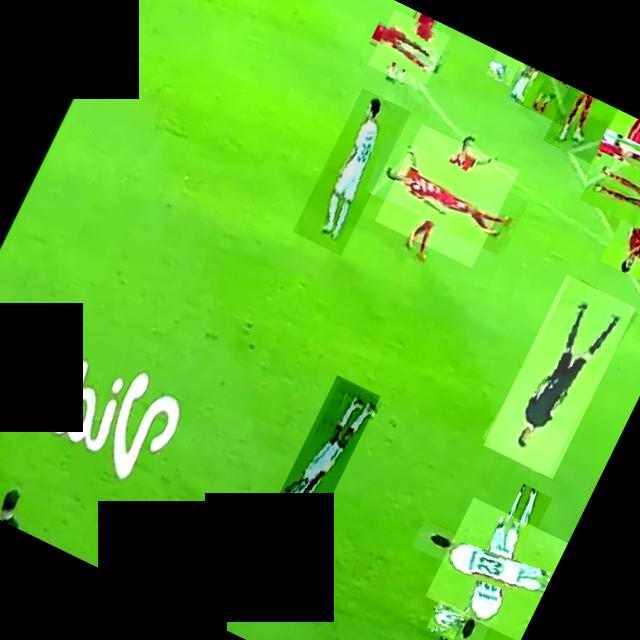ball: (426, 600, 466, 640)
referee: (483, 274, 635, 479)
soccer-player: (254, 375, 380, 566), (374, 124, 518, 268), (424, 497, 567, 640), (292, 88, 411, 255), (366, 9, 449, 92), (589, 142, 640, 273), (542, 85, 618, 163), (586, 119, 640, 199), (520, 70, 580, 126), (486, 51, 520, 85)
